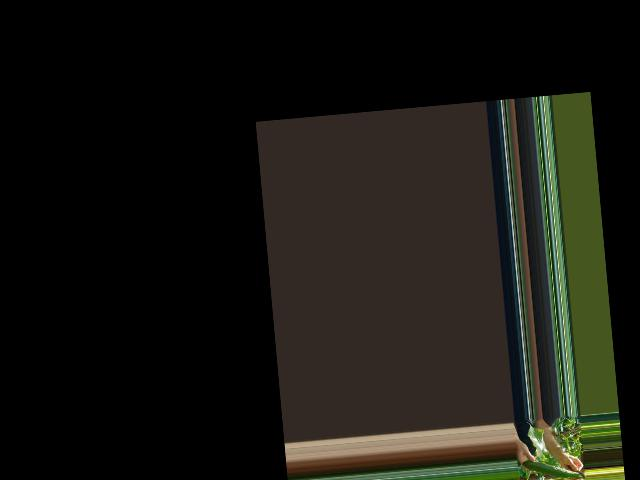cucumber: (522, 455, 578, 480)
